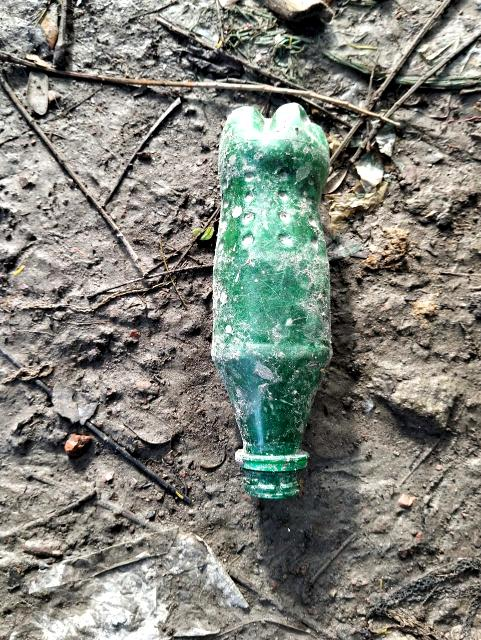bottle: (204, 101, 341, 508)
